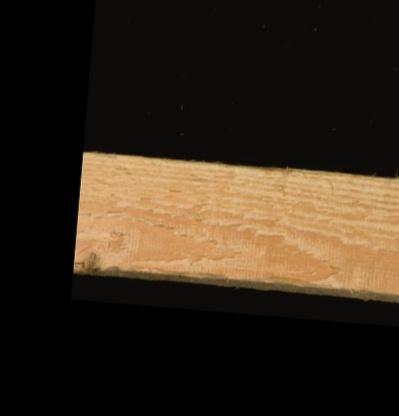edge_knot: (73, 247, 101, 273)
